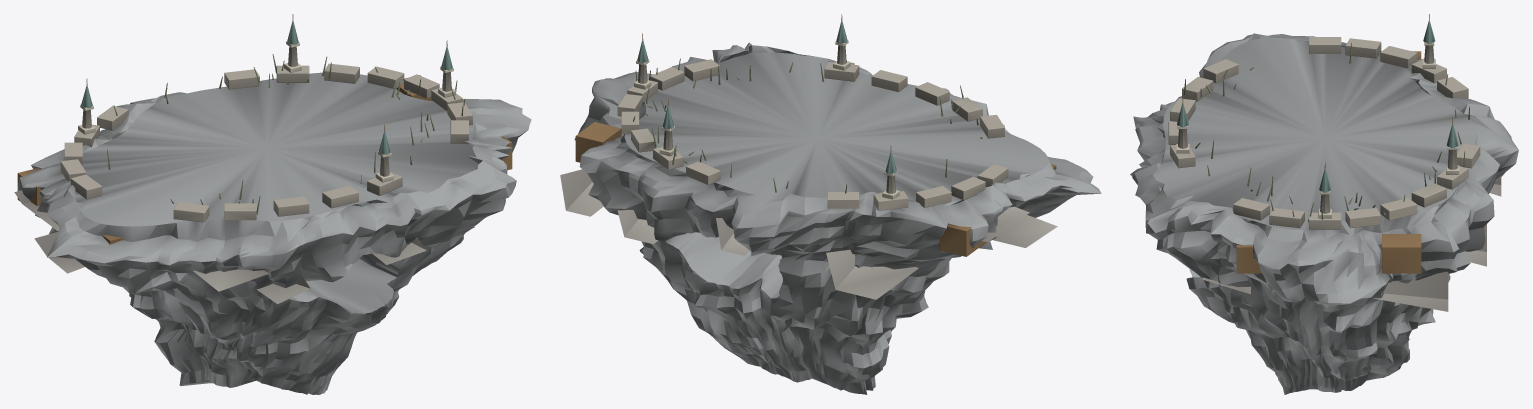
Rendered from island-terrace.glb.
The picture shows the model from 3 angles, left to right: view 1: azimuth 30°, elevation 25°; view 2: azimuth 150°, elevation 25°; view 3: azimuth 270°, elevation 25°; orthographic projection. The views are drawn at different scales.
Visible parts, largest first — view 1: island-terrace__rock, island-terrace__limestone, island-terrace__rock_light, island-terrace__moss, island-terrace__bronze, island-terrace__copper, island-terrace__pale; view 2: island-terrace__rock, island-terrace__limestone, island-terrace__rock_light, island-terrace__bronze, island-terrace__moss, island-terrace__copper, island-terrace__pale; view 3: island-terrace__rock, island-terrace__limestone, island-terrace__rock_light, island-terrace__bronze, island-terrace__moss, island-terrace__copper, island-terrace__pale.
Boxes of the visible parts, <box> form: island-terrace__rock: <box>17,72,531,394</box>; island-terrace__limestone: <box>60,46,472,222</box>; island-terrace__rock_light: <box>14,190,474,304</box>; island-terrace__moss: <box>107,54,464,214</box>; island-terrace__bronze: <box>17,14,512,244</box>; island-terrace__copper: <box>81,21,452,154</box>; island-terrace__pale: <box>78,41,455,182</box>; island-terrace__rock: <box>574,42,1101,394</box>; island-terrace__limestone: <box>617,45,1008,210</box>; island-terrace__rock_light: <box>560,169,1057,299</box>; island-terrace__bronze: <box>575,14,1056,256</box>; island-terrace__moss: <box>633,58,982,193</box>; island-terrace__copper: <box>637,20,896,173</box>; island-terrace__pale: <box>634,40,899,199</box>; island-terrace__rock: <box>1130,33,1518,394</box>; island-terrace__limestone: <box>1168,37,1480,229</box>; island-terrace__rock_light: <box>1145,51,1501,311</box>; island-terrace__bronze: <box>1182,14,1453,273</box>; island-terrace__moss: <box>1184,43,1469,222</box>; island-terrace__copper: <box>1177,20,1458,192</box>; island-terrace__pale: <box>1176,42,1459,218</box>.
Size of the model in its own units: 234 by 137 by 159.
